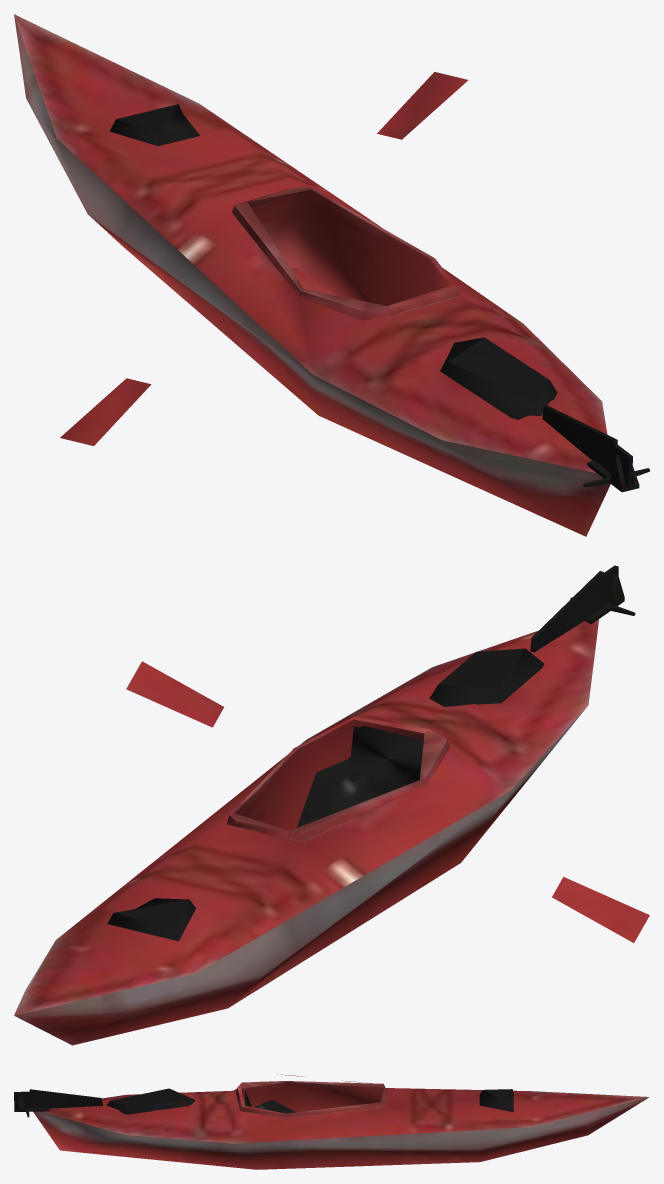
The model's file is bay-kayak.lod1.glb.
The picture shows the model from 3 angles, top to bottom: view 1: azimuth 30°, elevation 25°; view 2: azimuth 150°, elevation 25°; view 3: azimuth 270°, elevation 25°; orthographic projection. The views are drawn at different scales.
Visible parts, largest first — view 1: polySurface3_lambert2_0; view 2: polySurface3_lambert2_0; view 3: polySurface3_lambert2_0.
Part boxes in pixels (x1,y1,x2,y2): polySurface3_lambert2_0: (14,14,649,536); polySurface3_lambert2_0: (14,565,649,1045); polySurface3_lambert2_0: (14,1074,649,1169).
Size of the model in its own units: 2.09 by 0.9331 by 4.9.
Materials: 1 (1 with a texture image).
